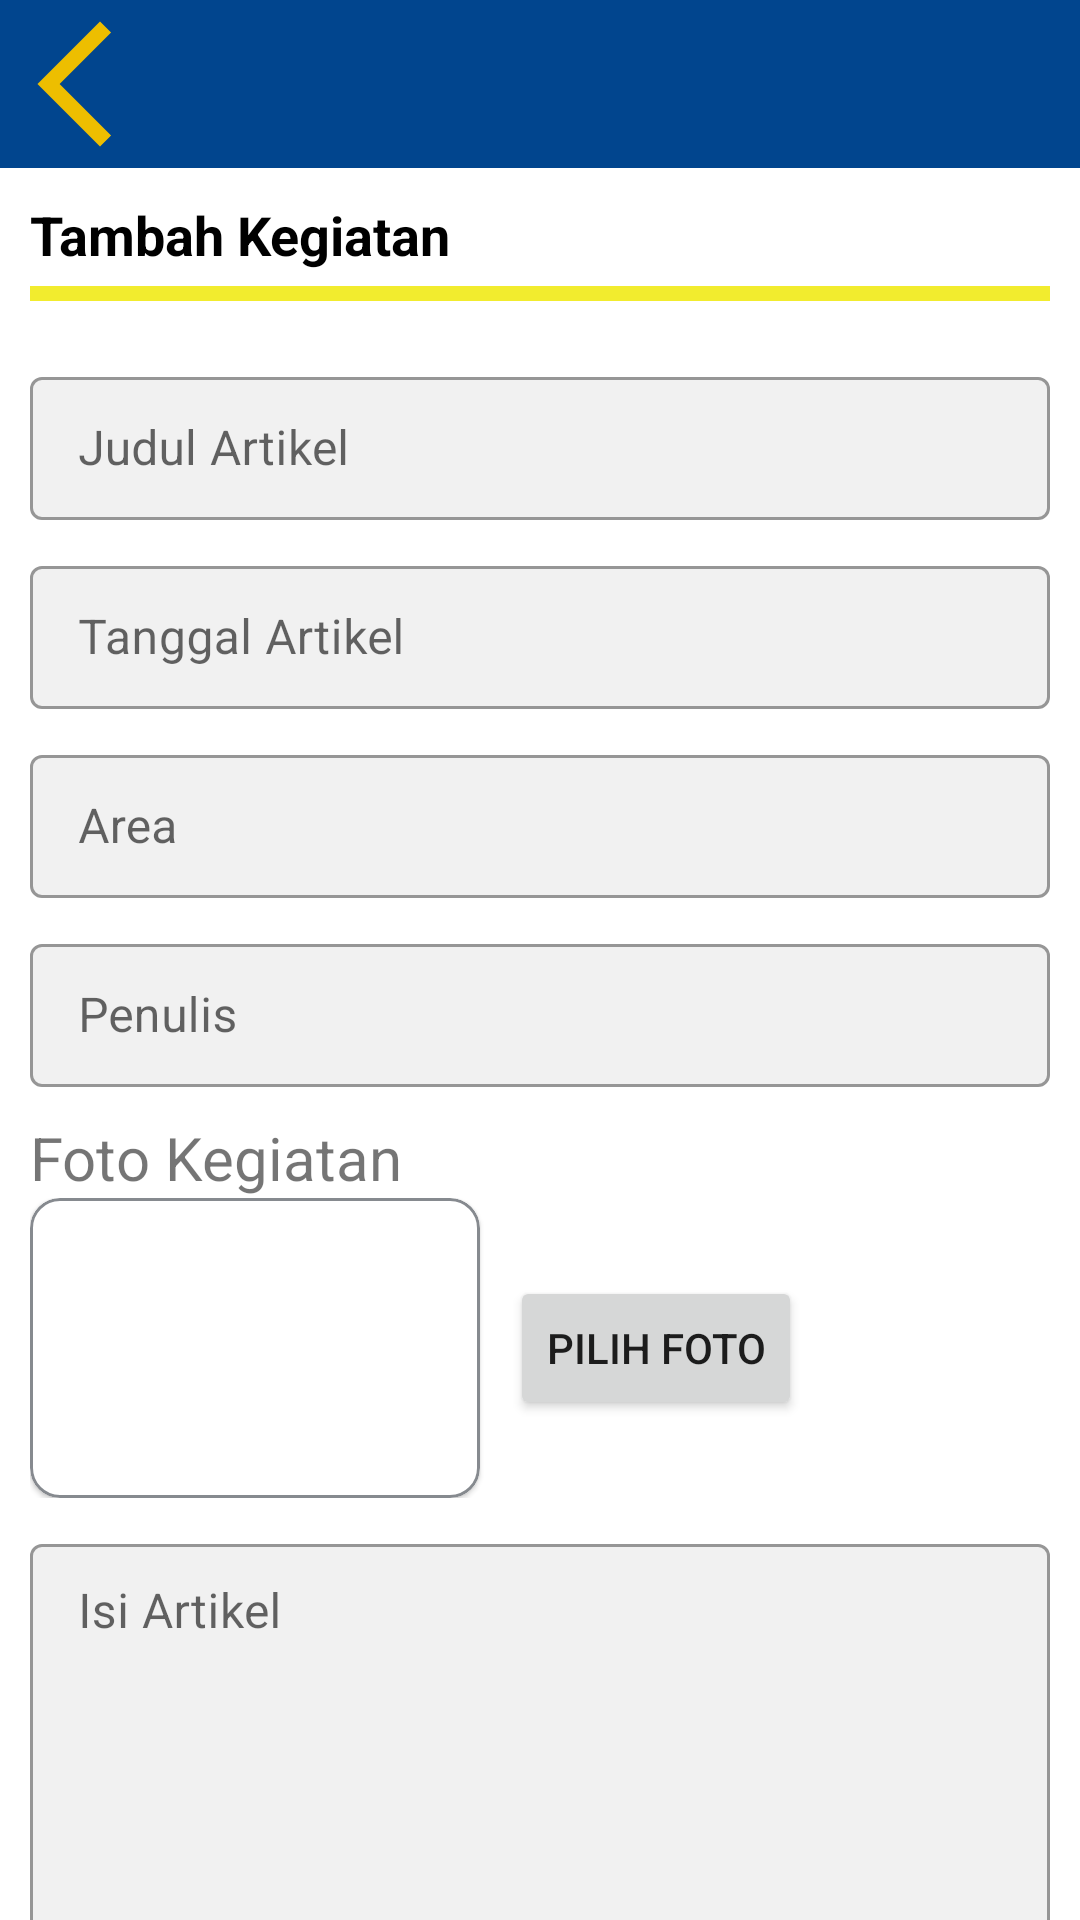

Icon click points for this 1080*1920 phone screenshot, format (x,y):
arrow back: (74,84)
